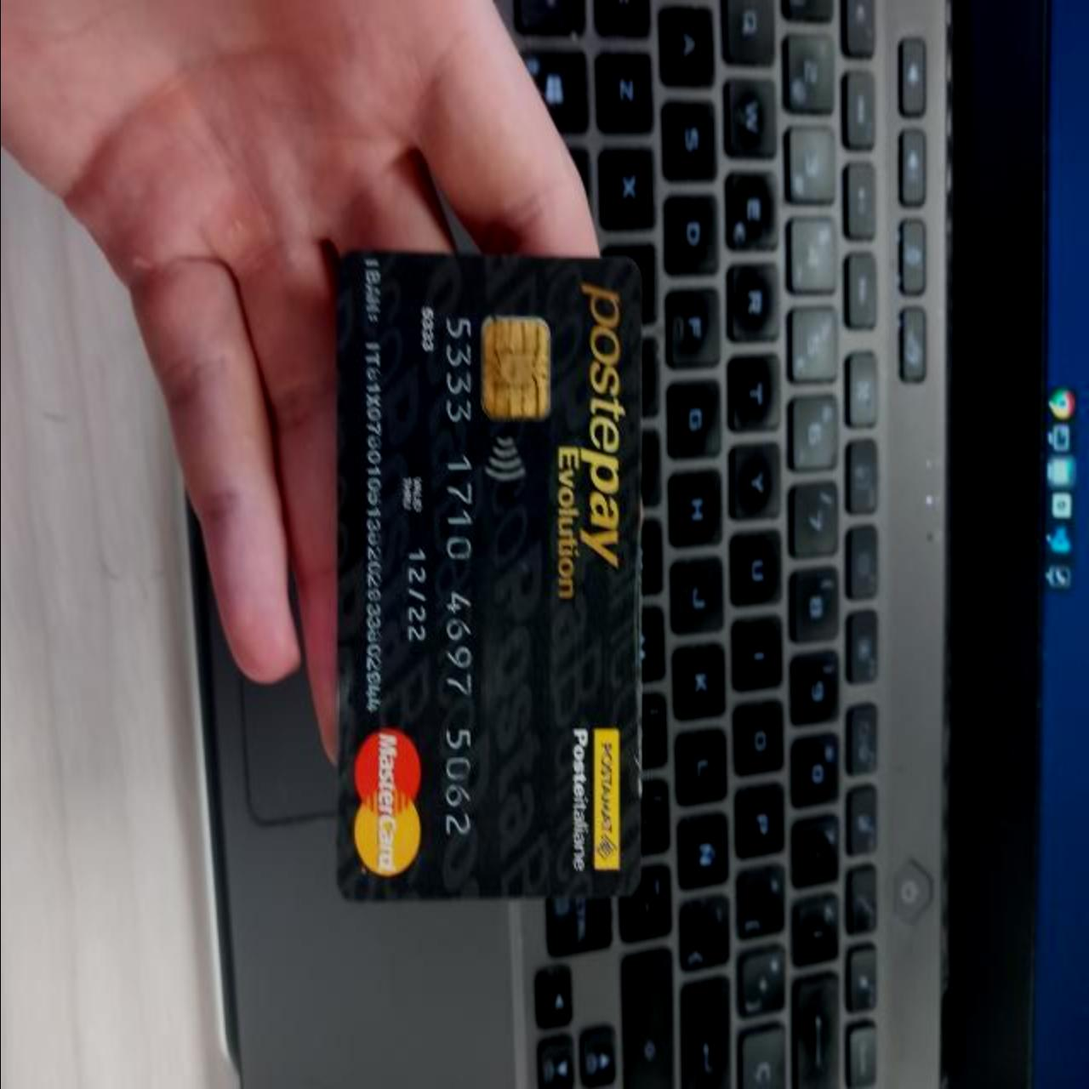credit_card: (334, 259, 647, 902)
